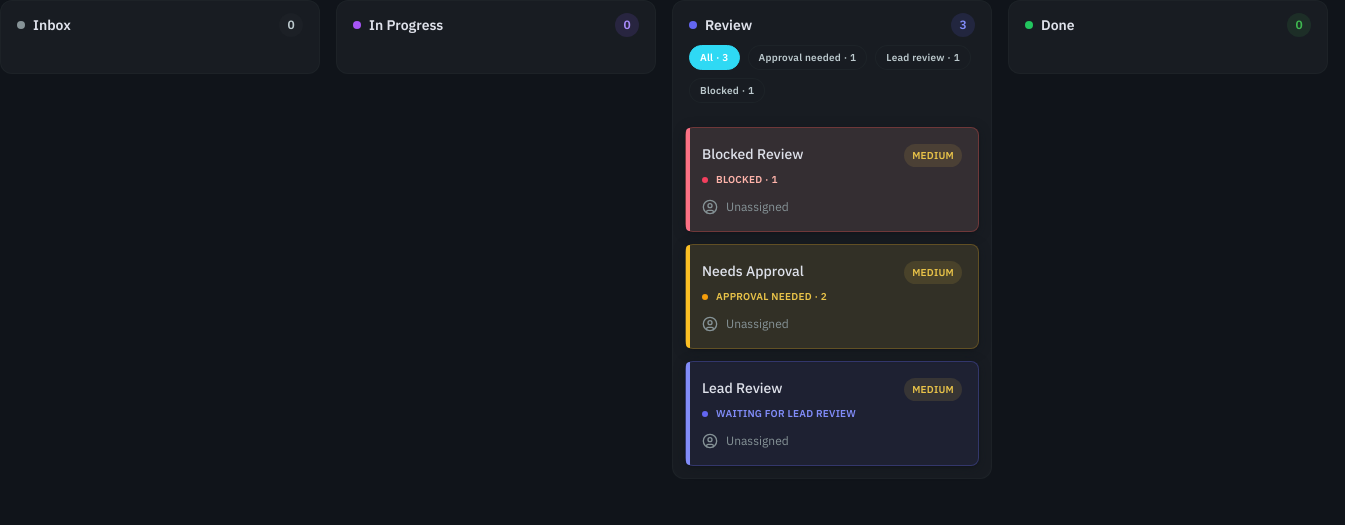
Test: TaskBoard › filters the review column by bucket
Expected: the element "Review" is shown, x1=672 y1=0 x2=992 y2=508
Expected: the element with class "column-header" that starts with "Review" is shown, x1=672 y1=0 x2=992 y2=115
Click the button "Blocked · 1". click: (727, 90)
box: x1=689 y1=78 x2=765 y2=103
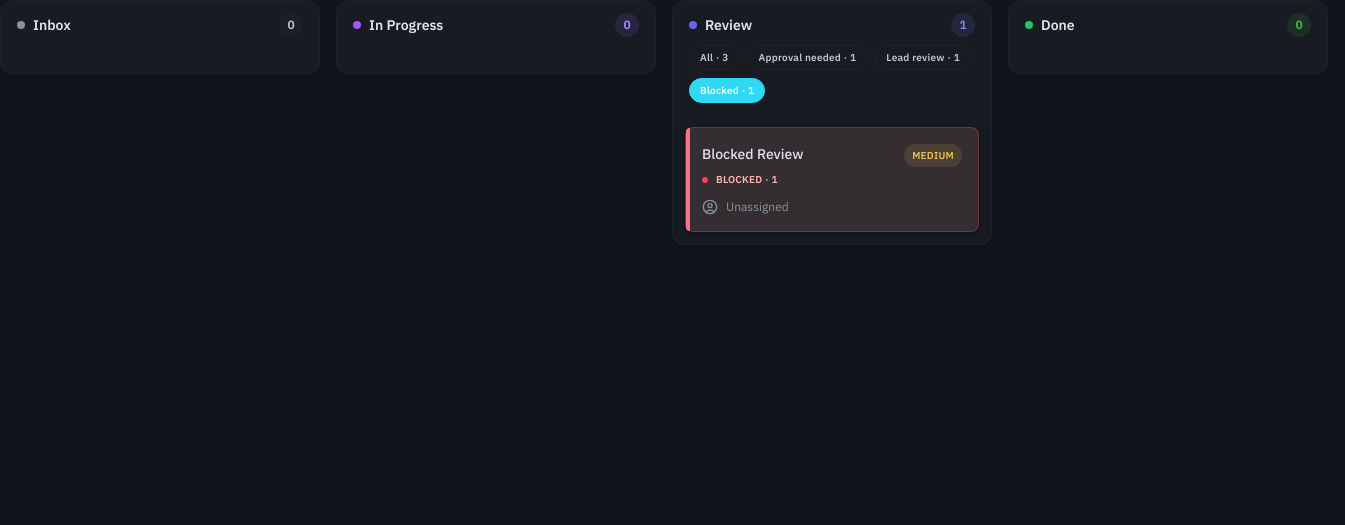
Expected: the text "Blocked Review" is shown, x1=702 y1=144 x2=803 y2=164
Expected: the button "Needs Approval" is gone
Click the button "Approval needed · 1". click: (807, 58)
box: x1=748 y1=45 x2=867 y2=70
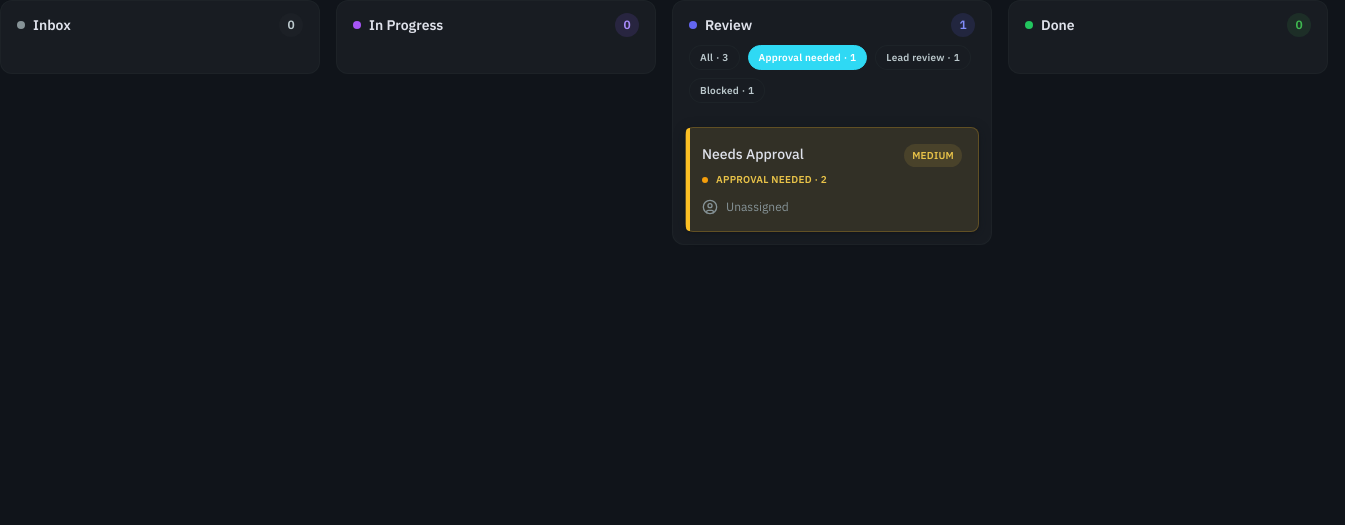
Expected: the text "Needs Approval" is shown, x1=702 y1=145 x2=804 y2=163
Expected: the button "Blocked Review" is gone
Click the button "Lead review · 1". click: (923, 58)
box: x1=875 y1=45 x2=971 y2=70
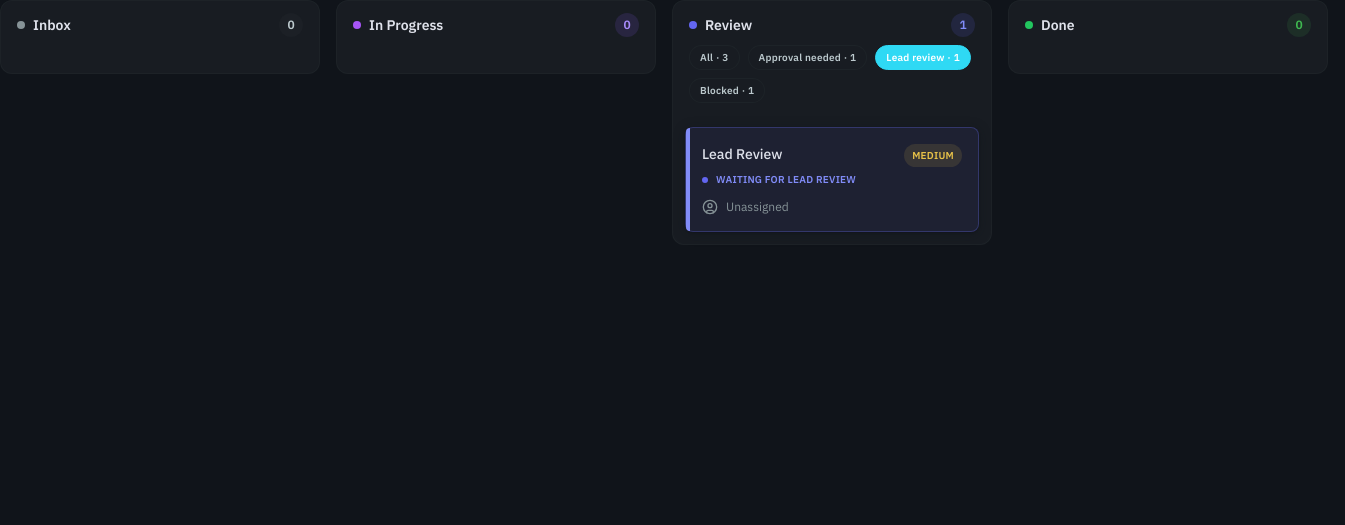
Expected: the button "Blocked Review" is not shown
Expected: the text "Lead Review" is shown, x1=702 y1=145 x2=782 y2=163
Expected: the button "Needs Approval" is gone
